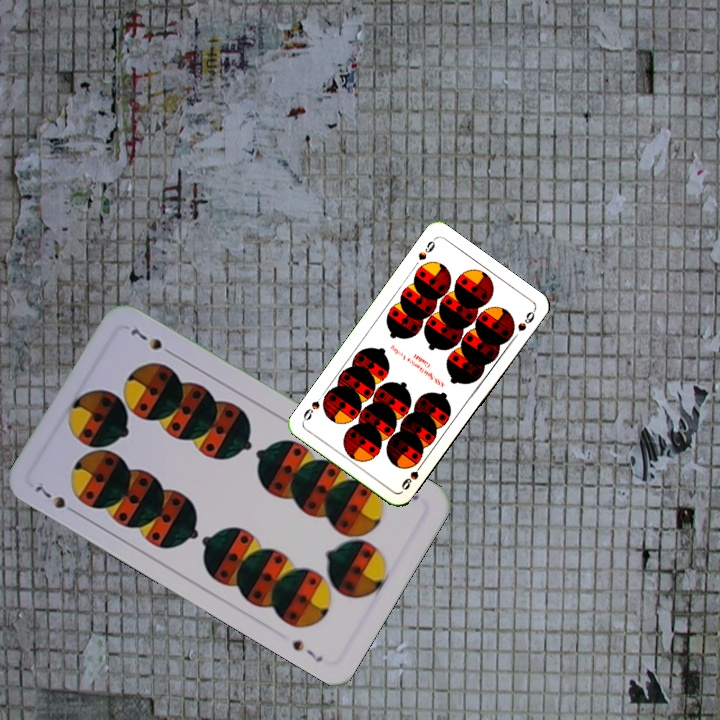S7: (28, 479, 81, 518)
S9: (397, 458, 426, 493), (414, 234, 438, 263)
